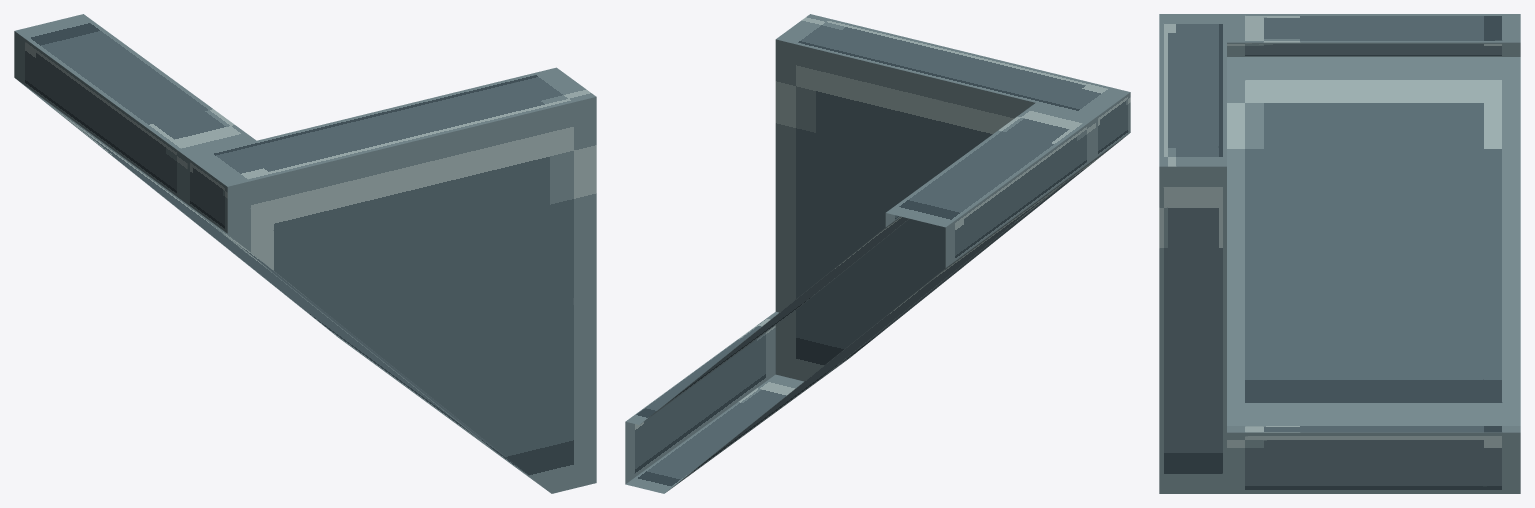
File: casing_d3_rear_x-1_y-1.obj
3 views of the same model, side by side, from view 1: azimuth 30°, elevation 25°; view 2: azimuth 150°, elevation 25°; view 3: azimuth 270°, elevation 25° (orthographic). The views are drawn at different scales.
Parts seen in each view (by area): view 1: d3_rear_x-1_y-1; view 2: d3_rear_x-1_y-1; view 3: d3_rear_x-1_y-1.
Boxes of the visible parts, <box> form: d3_rear_x-1_y-1: <box>14,14,596,493</box>; d3_rear_x-1_y-1: <box>625,14,1130,493</box>; d3_rear_x-1_y-1: <box>1159,14,1520,493</box>.
Bounding box in the file's own units: 1 × 1 × 1.
